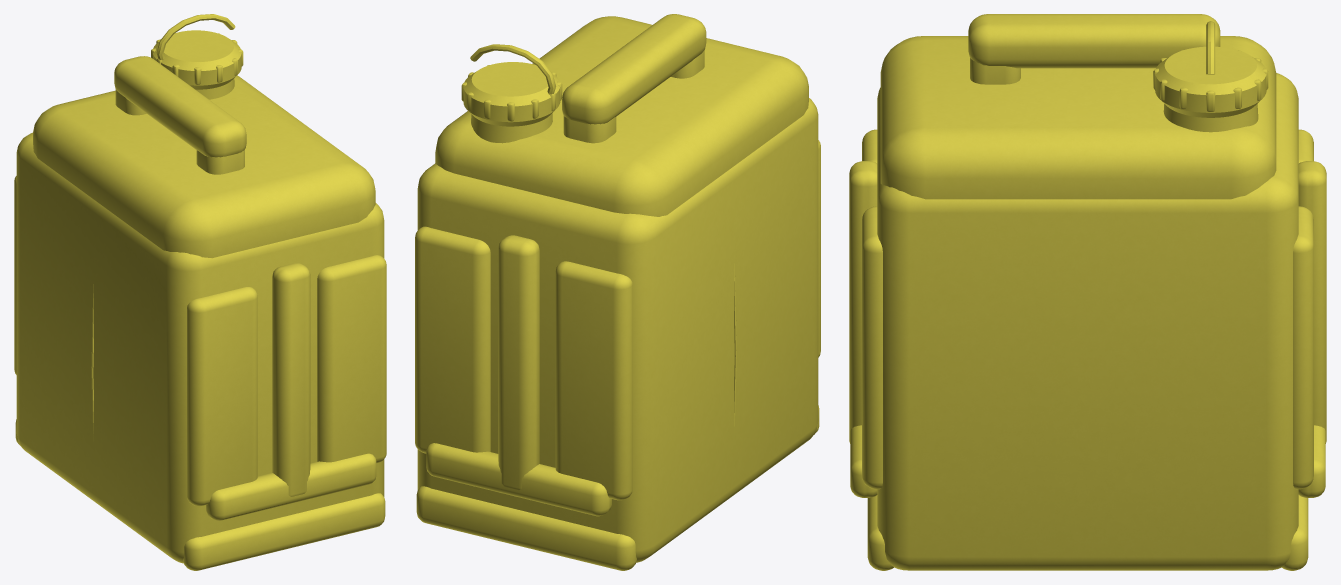
File: ob_jerrycan_3.glb
3 renders of one model, left to right at view 1: azimuth 30°, elevation 25°; view 2: azimuth 150°, elevation 25°; view 3: azimuth 270°, elevation 25°, orthographic. The views are drawn at different scales.
Parts seen in each view (by area): view 1: ob_jerrycan_3; view 2: ob_jerrycan_3; view 3: ob_jerrycan_3.
Boxes of the visible parts, <box> form: ob_jerrycan_3: <box>14,14,386,570</box>; ob_jerrycan_3: <box>415,14,820,570</box>; ob_jerrycan_3: <box>849,14,1326,570</box>.
Size of the model in its own units: 0.23 by 0.43 by 0.36.
Materials: 1 (1 with a texture image).
